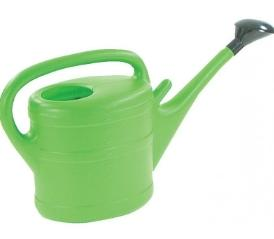ARROSOIR: (0, 0, 274, 227)
